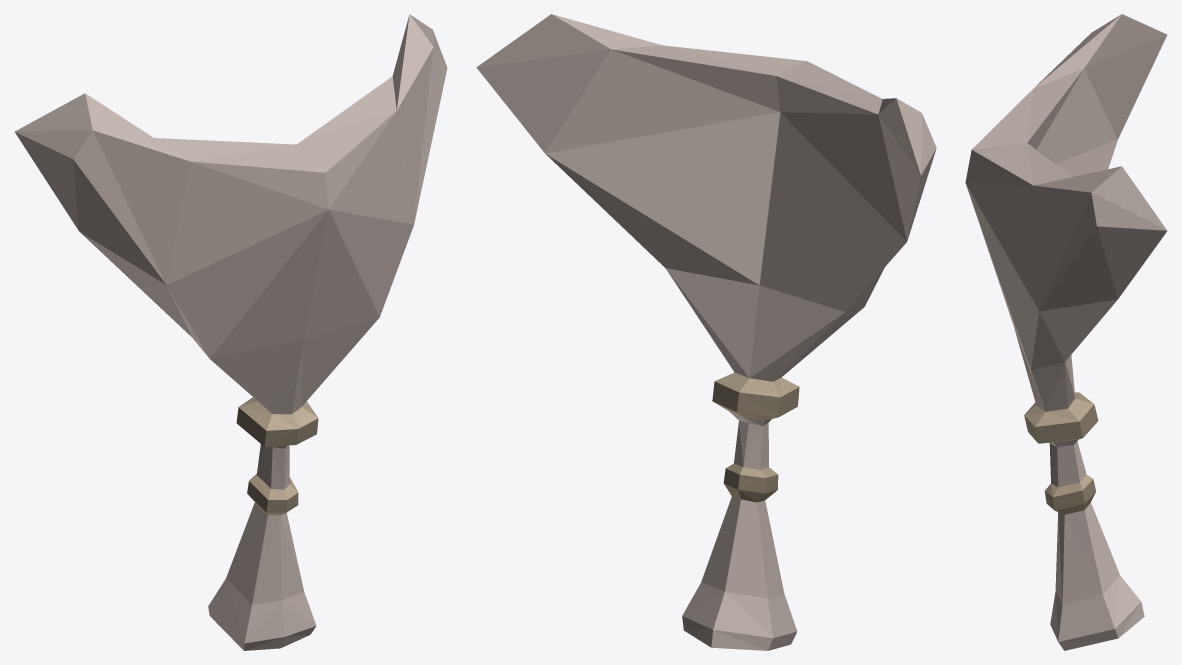
File: beardBraidedWhite.glb
3 views of the same model, side by side, from view 1: azimuth 30°, elevation 25°; view 2: azimuth 150°, elevation 25°; view 3: azimuth 270°, elevation 25° (orthographic). The views are drawn at different scales.
Visible parts, largest first — view 1: beardBraidedWhite; view 2: beardBraidedWhite; view 3: beardBraidedWhite.
Boxes of the visible parts, x1=… form: beardBraidedWhite: x1=15, y1=14, x2=447, y2=650; beardBraidedWhite: x1=476, y1=14, x2=936, y2=650; beardBraidedWhite: x1=965, y1=14, x2=1167, y2=650.
Bounding box in the file's own units: 0.0809 × 0.1054 × 0.0352.
